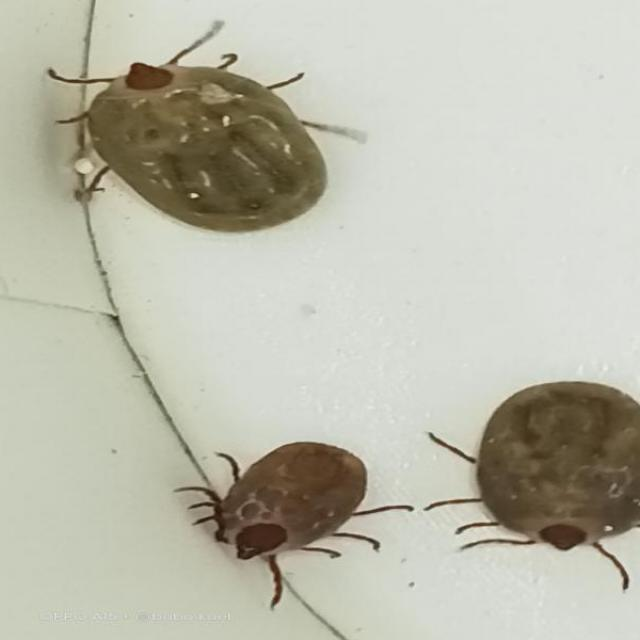Rhipicephalus Sanguineus-F-Fed: (47, 20, 368, 234), (173, 442, 408, 610), (423, 381, 640, 552)
